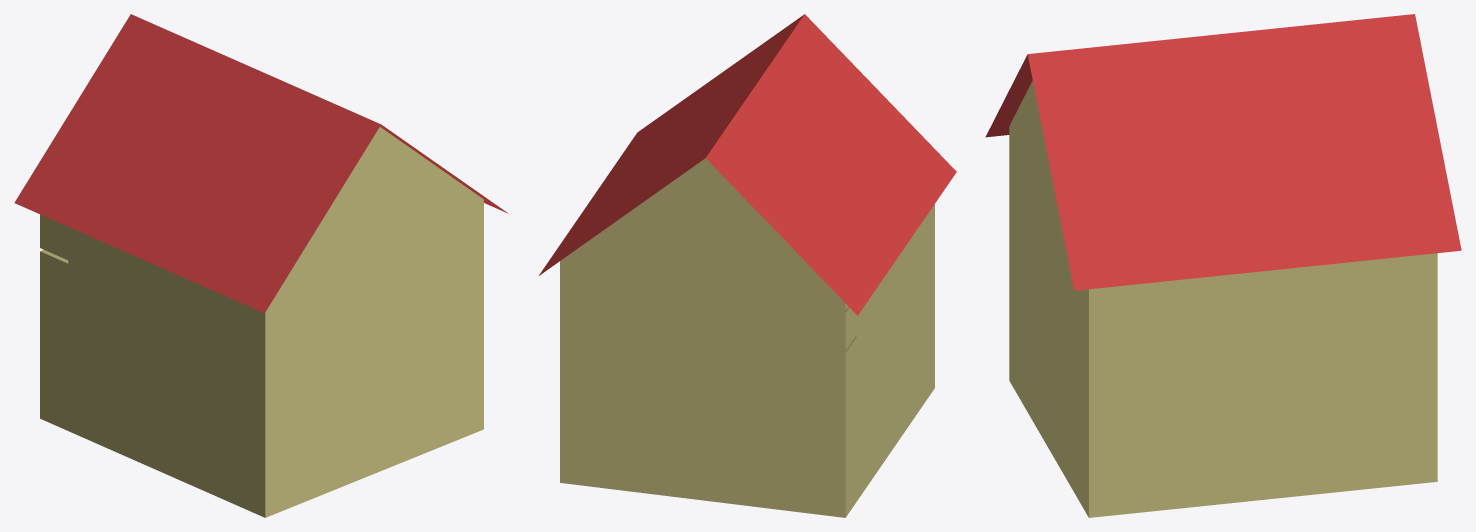
3 views of the same model, side by side, from view 1: azimuth 30°, elevation 25°; view 2: azimuth 150°, elevation 25°; view 3: azimuth 270°, elevation 25° (orthographic). The views are drawn at different scales.
Size of the model in its own units: 11.46 by 11.92 by 10.86.
